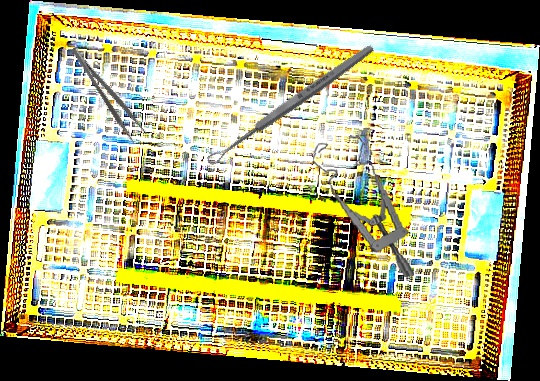Dressing Forceps: (69, 40, 148, 145)
Speculum: (310, 129, 415, 287)
Surgical Spoon: (204, 41, 377, 168)
